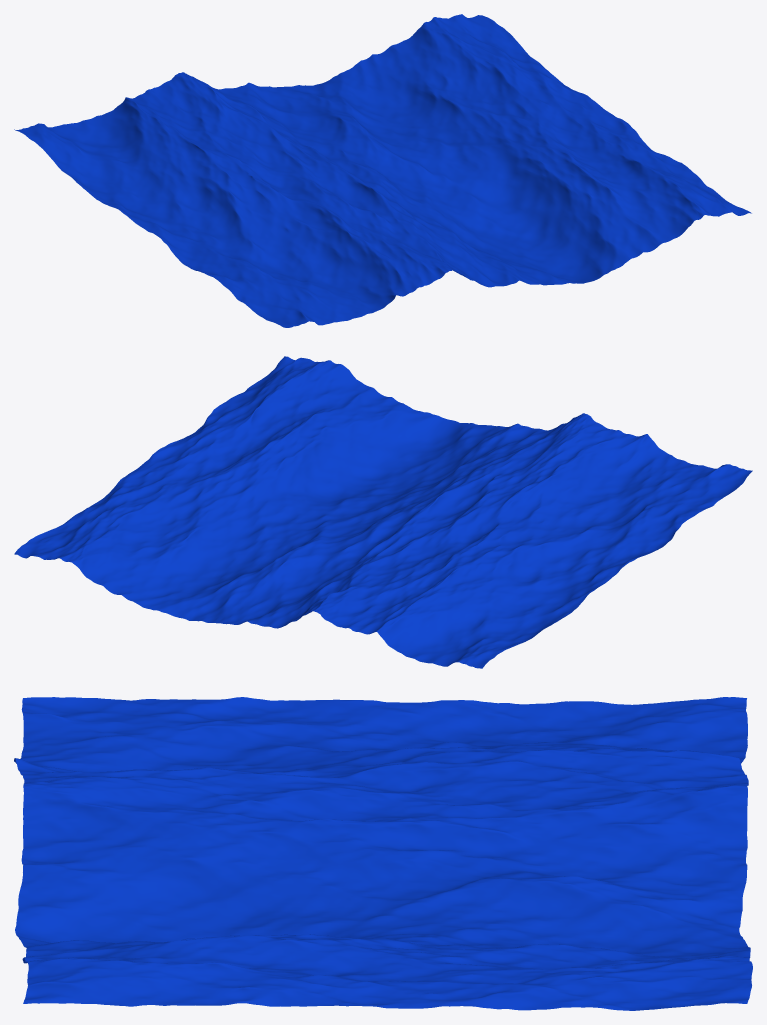
File: ocean.obj
The picture shows the model from 3 angles, top to bottom: view 1: azimuth 30°, elevation 25°; view 2: azimuth 150°, elevation 25°; view 3: azimuth 270°, elevation 25°; orthographic projection. The views are drawn at different scales.
Visible parts, largest first — view 1: Plane; view 2: Plane; view 3: Plane.
Boxes of the visible parts, bbox=[...] form: Plane: bbox=[14, 14, 751, 327]; Plane: bbox=[14, 356, 752, 668]; Plane: bbox=[14, 697, 752, 1010].
Bounding box in the file's own units: 620 × 65.28 × 621.
